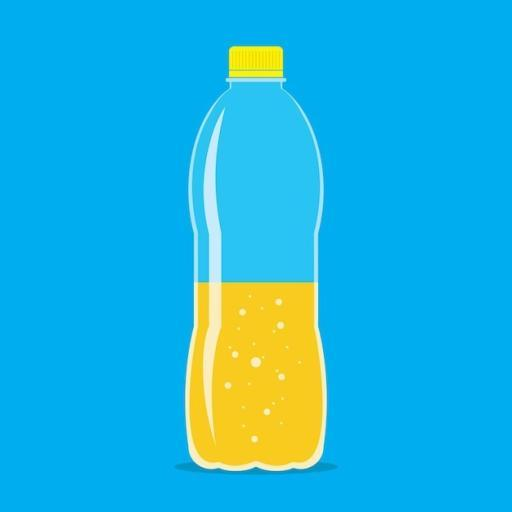bottle: (182, 40, 338, 488)
